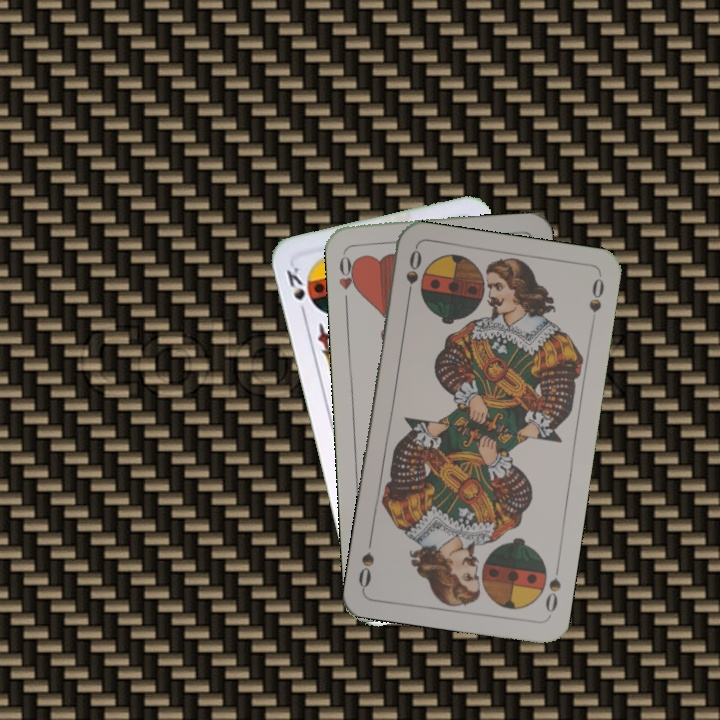HO: (334, 247, 361, 306)
SK: (282, 263, 309, 320)
SO: (402, 245, 424, 304), (541, 560, 564, 615)
